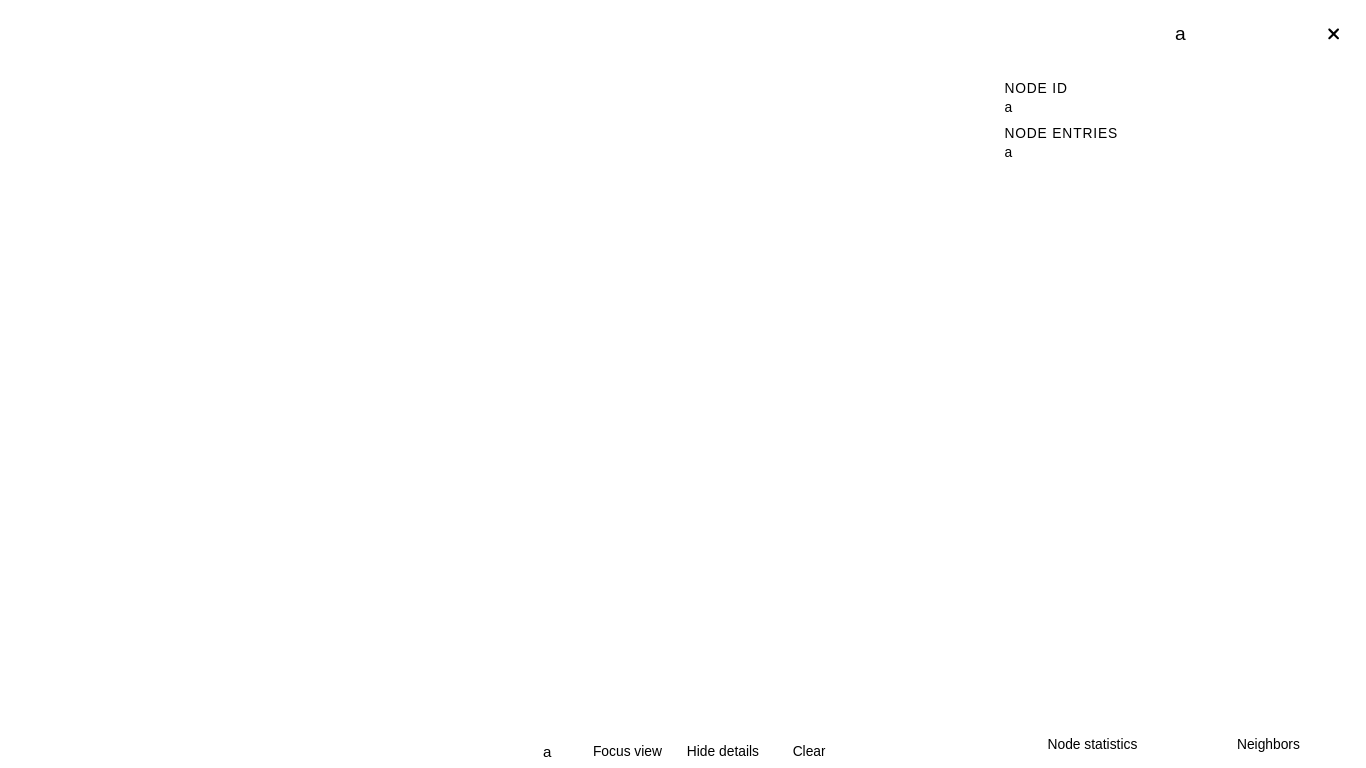
node popup switches between statistics, adjacency and details and updates with filters
Click the button "Node statistics" at x=1092, y=745, box 1008,731 -> 1177,758
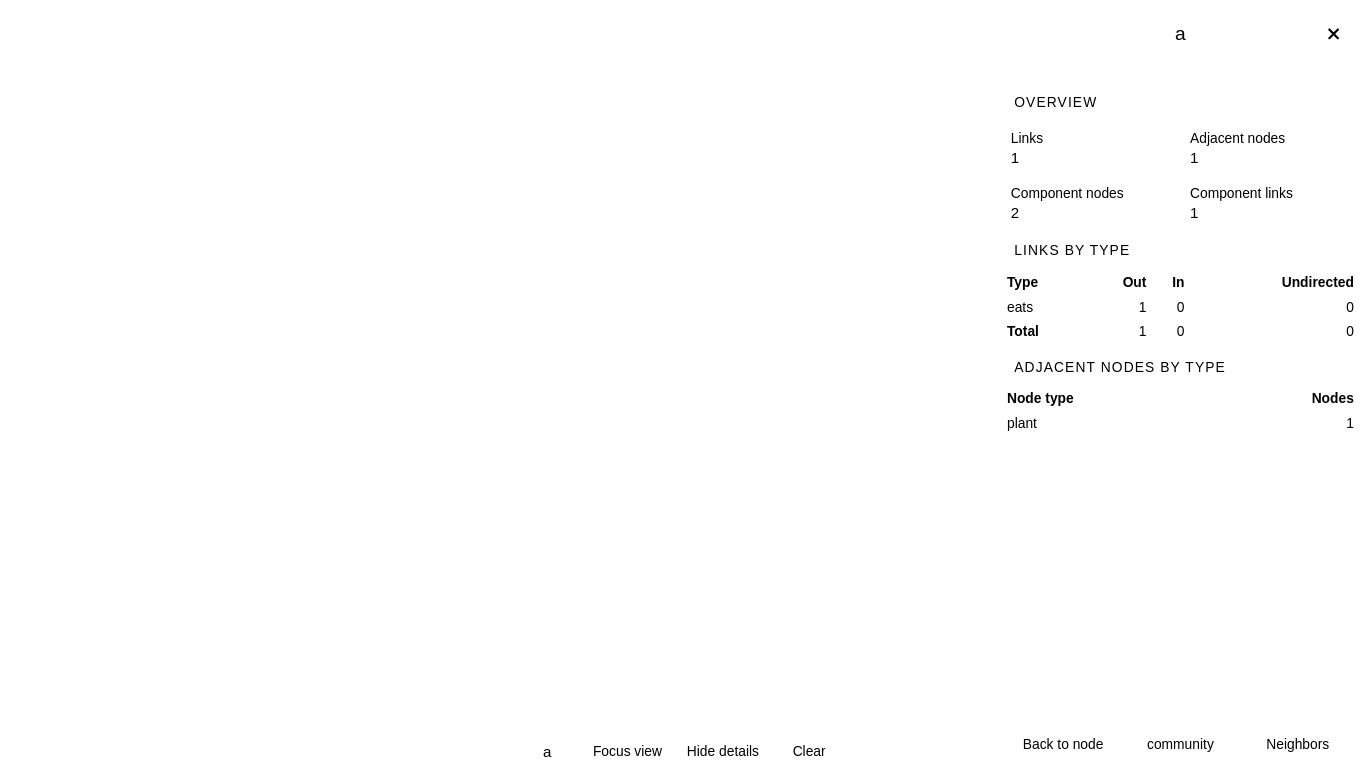
Expected: the element with class "node-statistics" shows "eats", 1007,298 -> 1033,314
Expected: the element with class "node-statistics" shows "plant", 1007,415 -> 1037,431
Click the button "community" at x=1180, y=745, box 1125,731 -> 1236,758
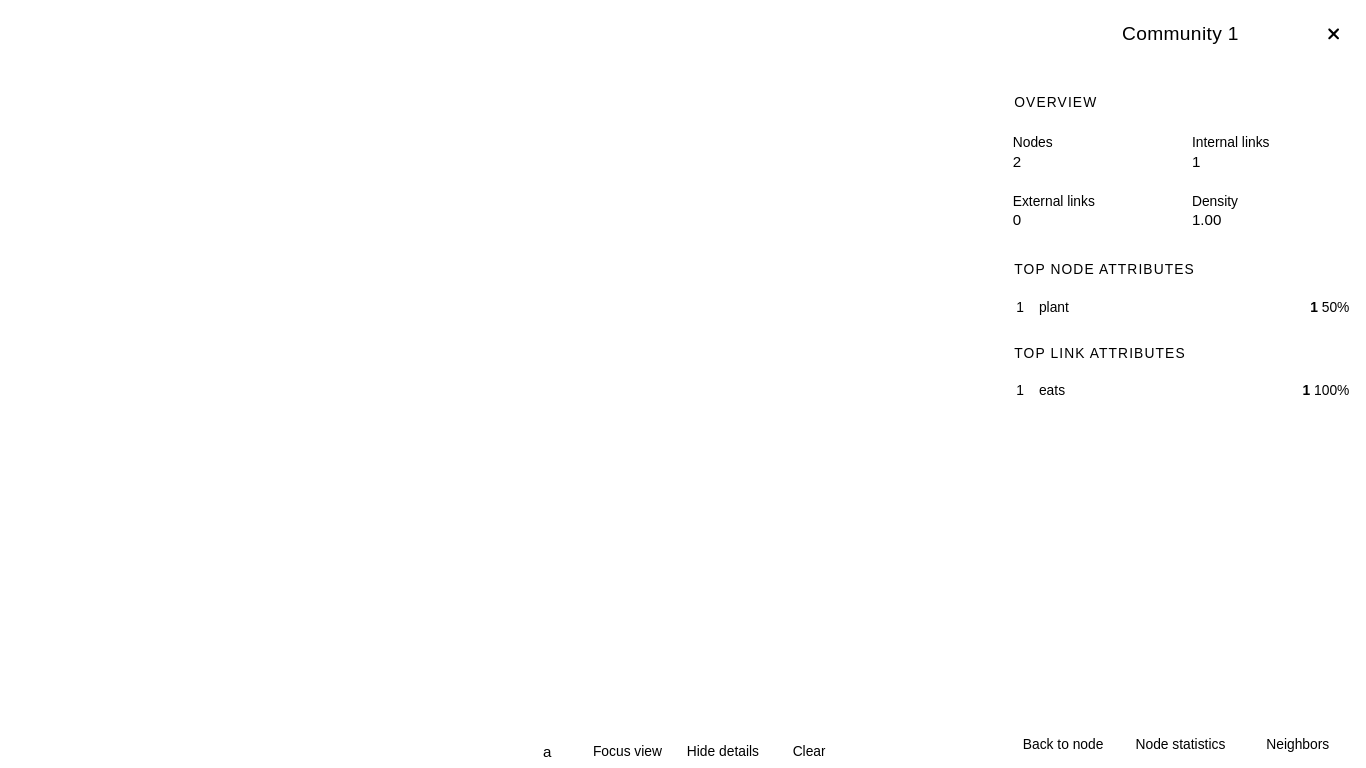
Expected: the text with class "tooltip-popup-heading" reads "Community 1", 1122,23 -> 1239,44
Expected: the element with class "community-details" shows "Top node attributes", 1014,261 -> 1195,277
Expected: the number of list items is 2, 1016,298 -> 1349,314; 1016,382 -> 1349,398
Click the button "Node statistics" at x=1180, y=745, box 1125,731 -> 1236,758
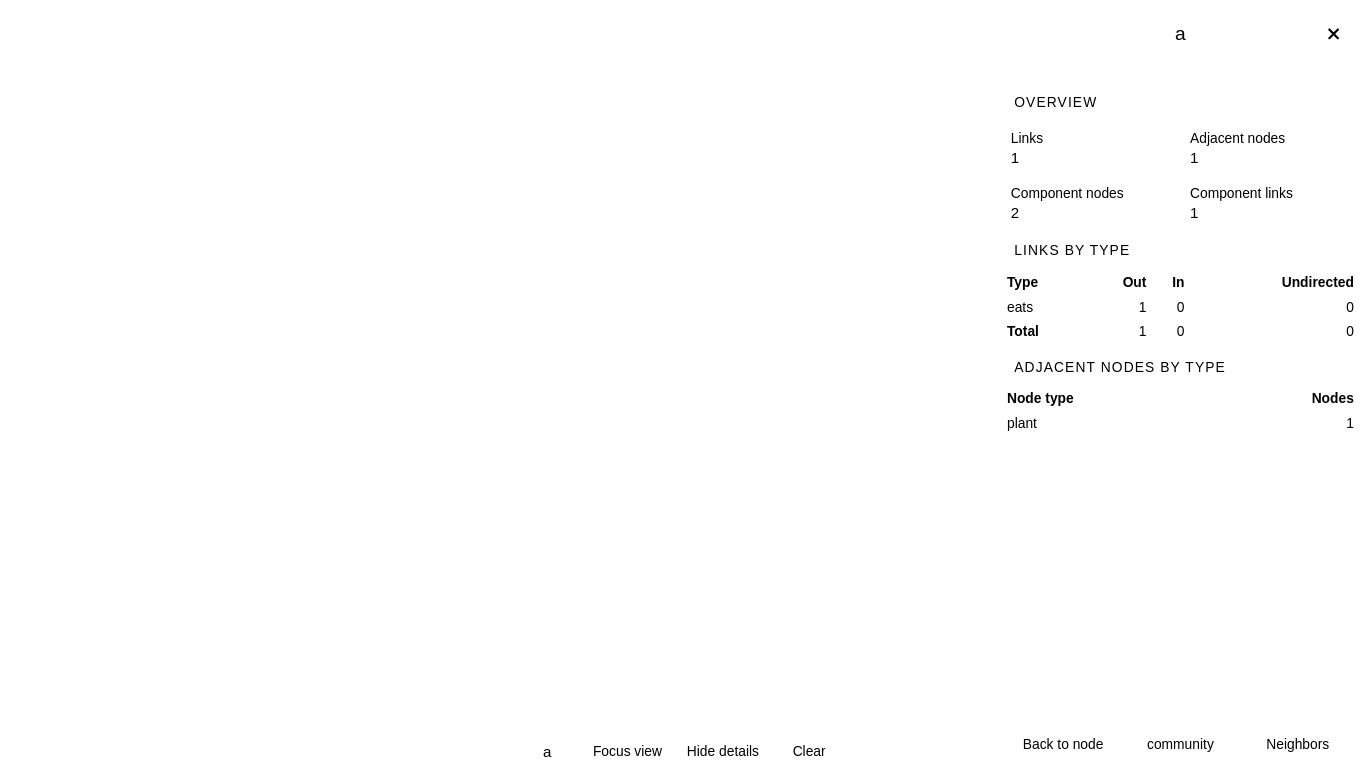
Click the button "Neighbors" at x=1298, y=745, box 1242,731 -> 1353,758
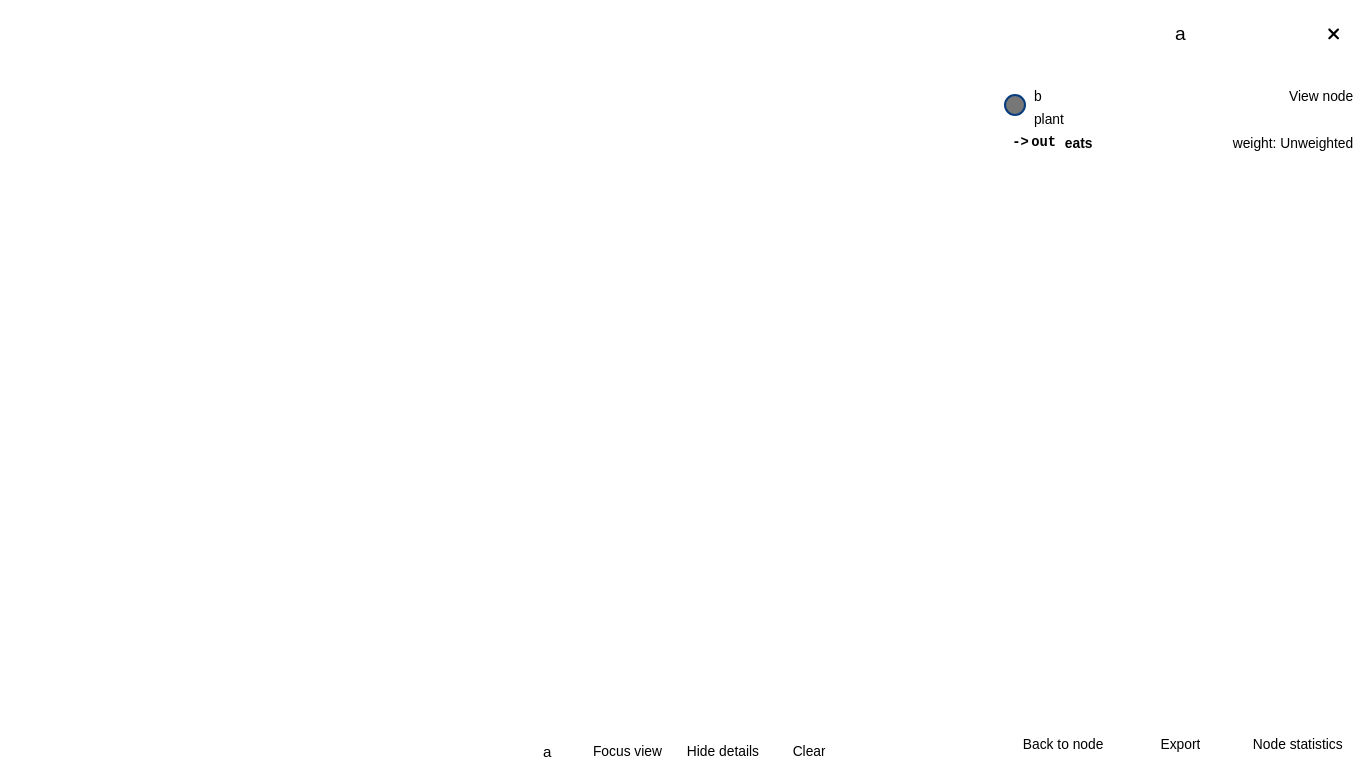
Expected: the text with class "tooltip-adjacent-node-id" reads "b", 1034,88 -> 1042,104
Click the button "Node statistics" at x=1298, y=745, box 1242,731 -> 1353,758
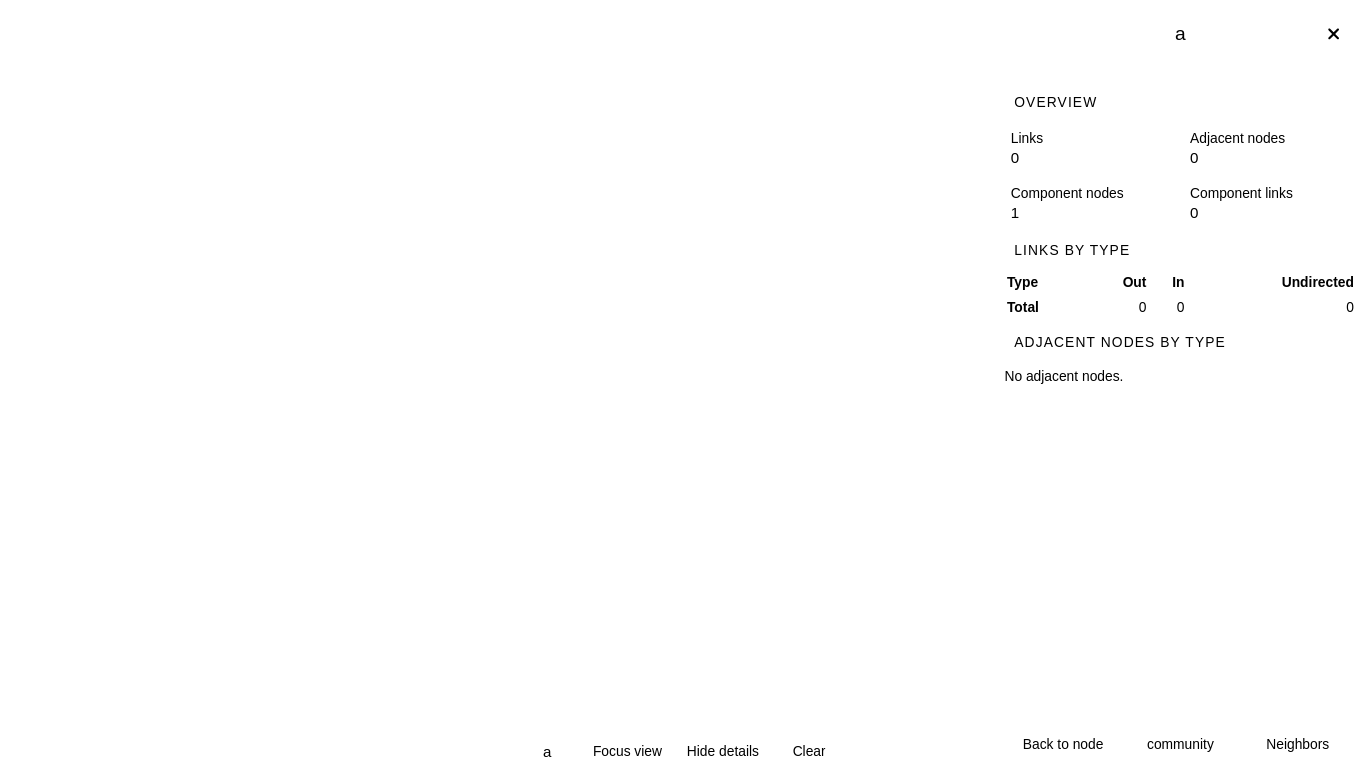
Expected: the element with class "node-statistics" shows "No adjacent nodes.", 1004,368 -> 1123,384
Click the button "Back to node" at x=1063, y=745, box 1008,731 -> 1118,758
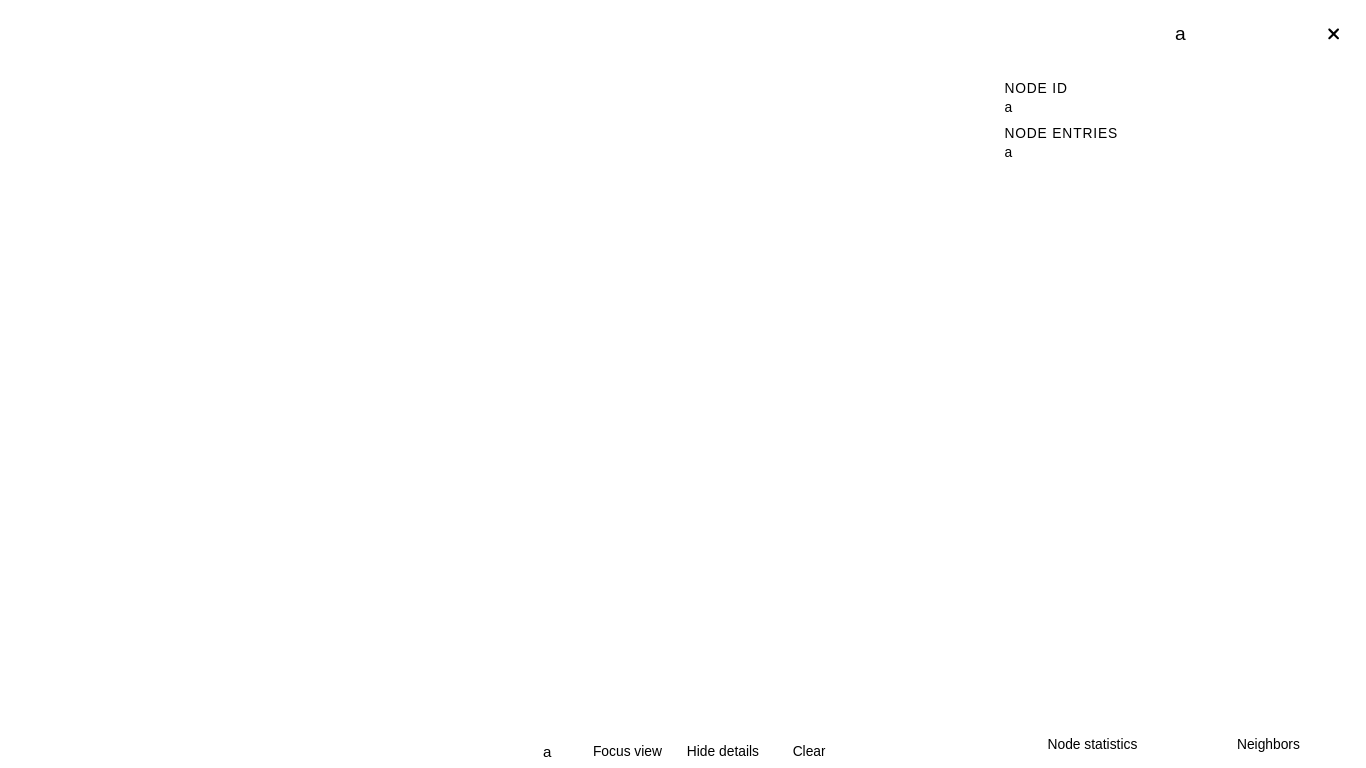
Expected: the element with class "node-statistics" is gone
